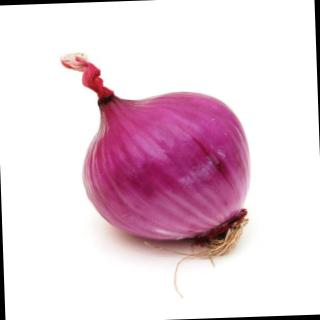Bawang Merah: (57, 44, 258, 266)
